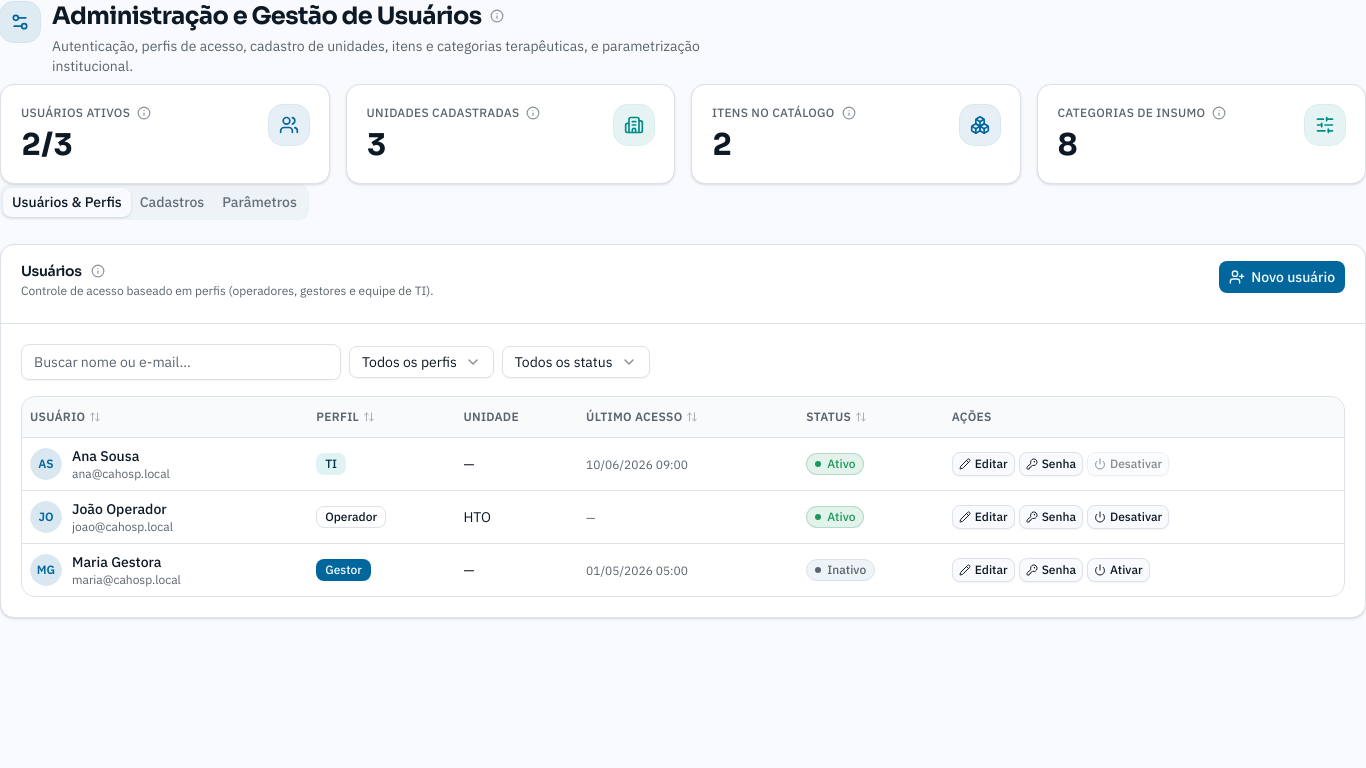
it: AdminPage › abre o modal de novo usuário e cria com sucesso
Click the button "Novo usuário" at point(1282, 277), box x1=1219 y1=261 x2=1345 y2=293
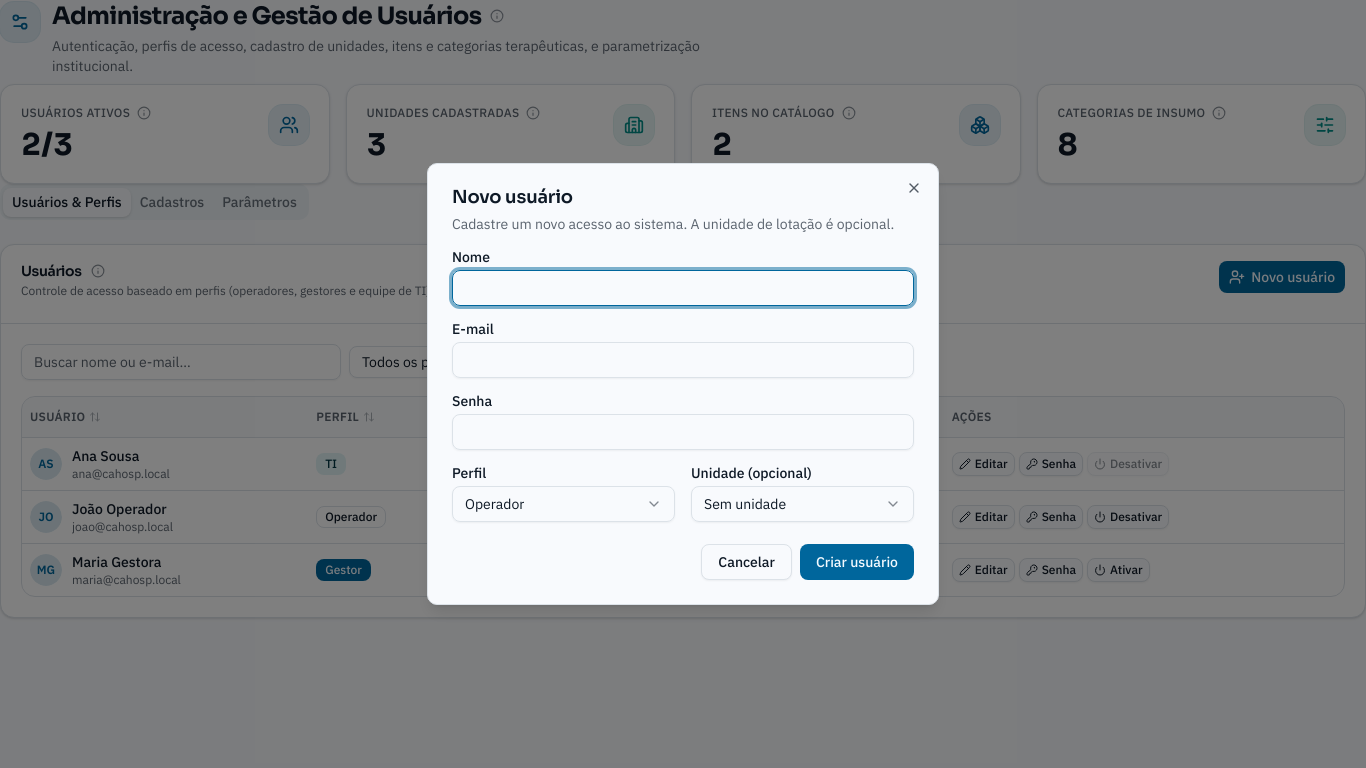
Type "Pedro Novo" into the field labelled "Nome" at point(683, 288), box x1=452 y1=270 x2=914 y2=306
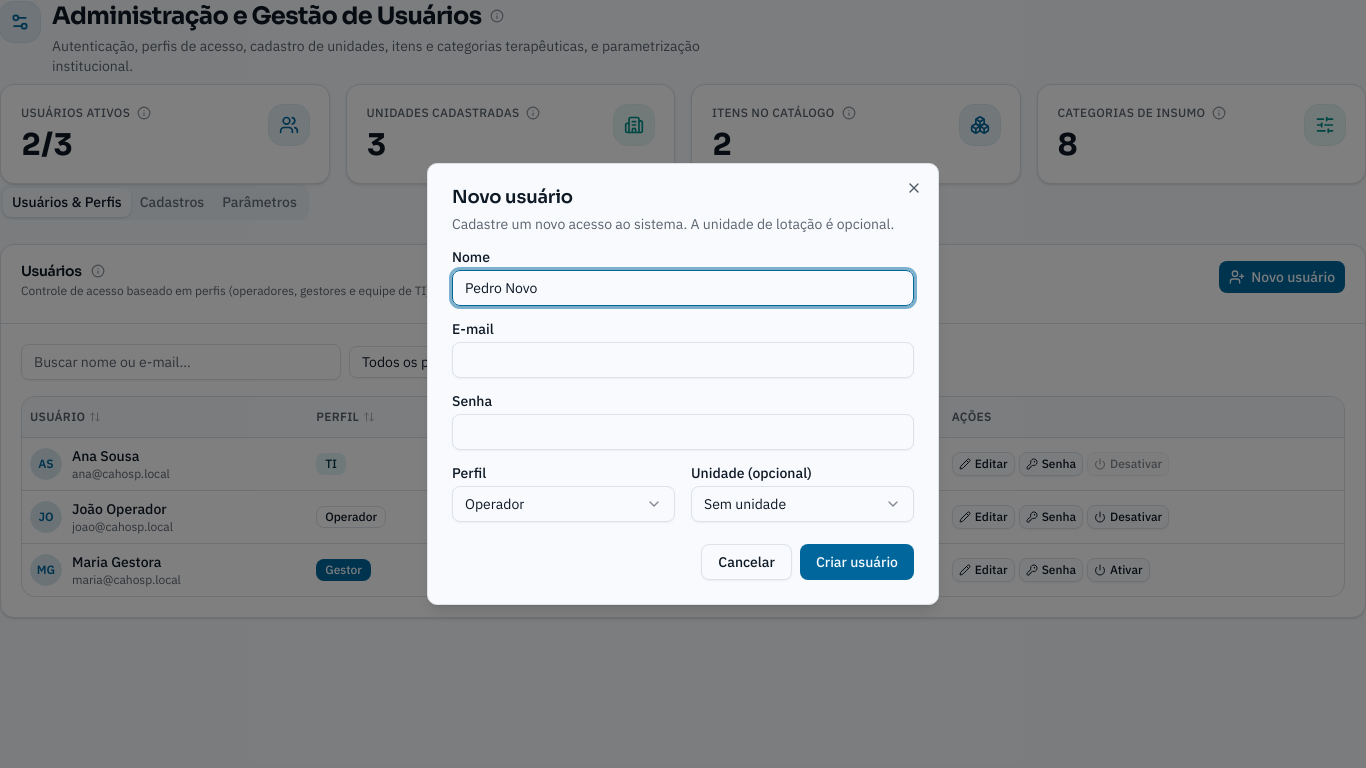
Type "pedro@cahosp.local" into the field labelled "E-mail" at point(683, 360), box x1=452 y1=342 x2=914 y2=378
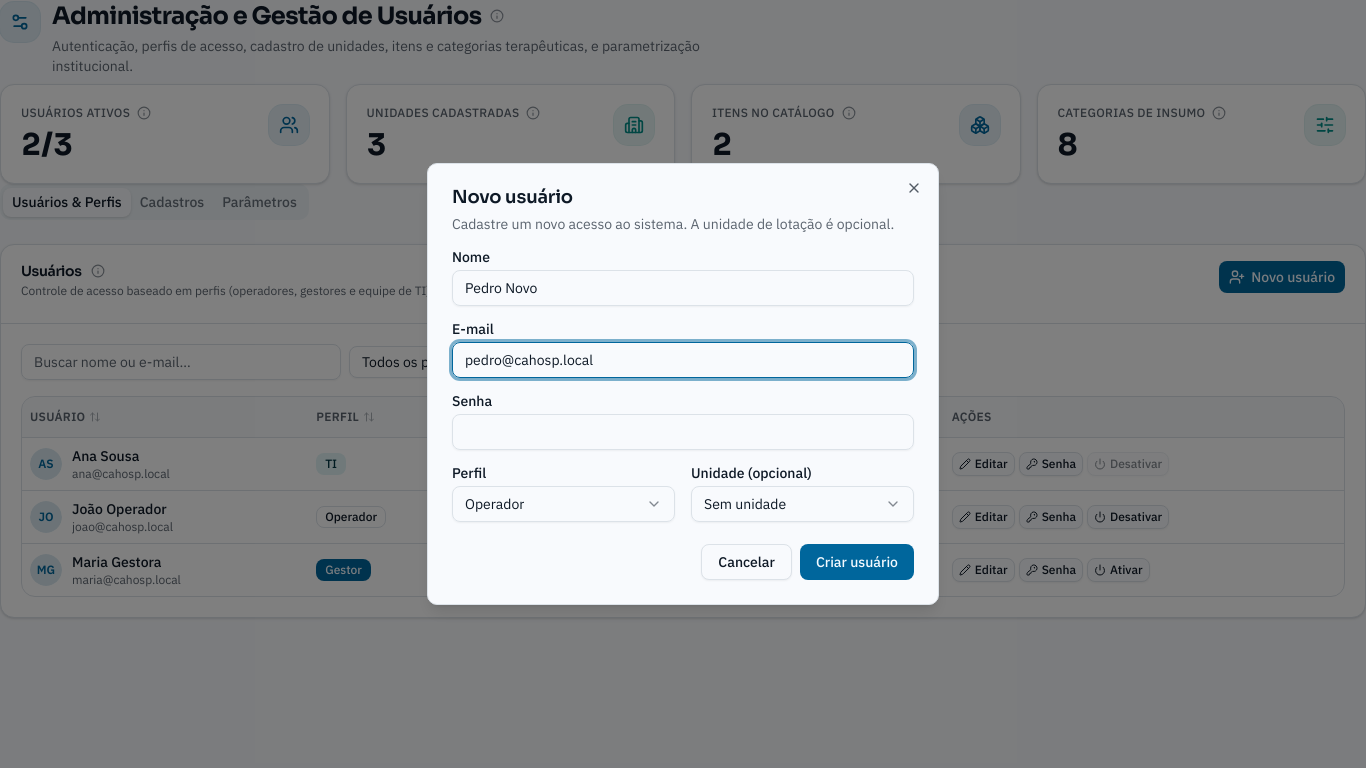
Type "senha1234" into the password field labelled "Senha" at point(683, 432), box x1=452 y1=414 x2=914 y2=450
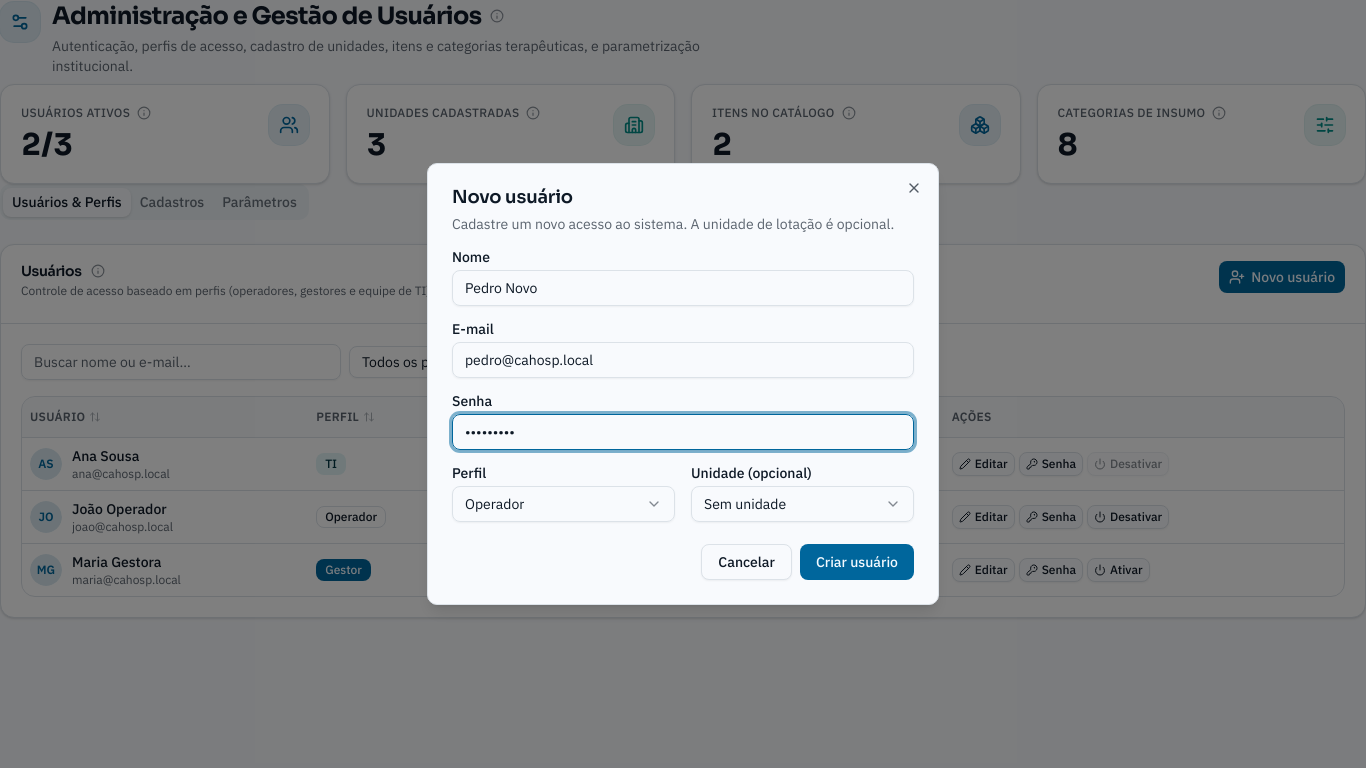
Click the button "Criar usuário" at point(857, 562), box x1=800 y1=544 x2=914 y2=580
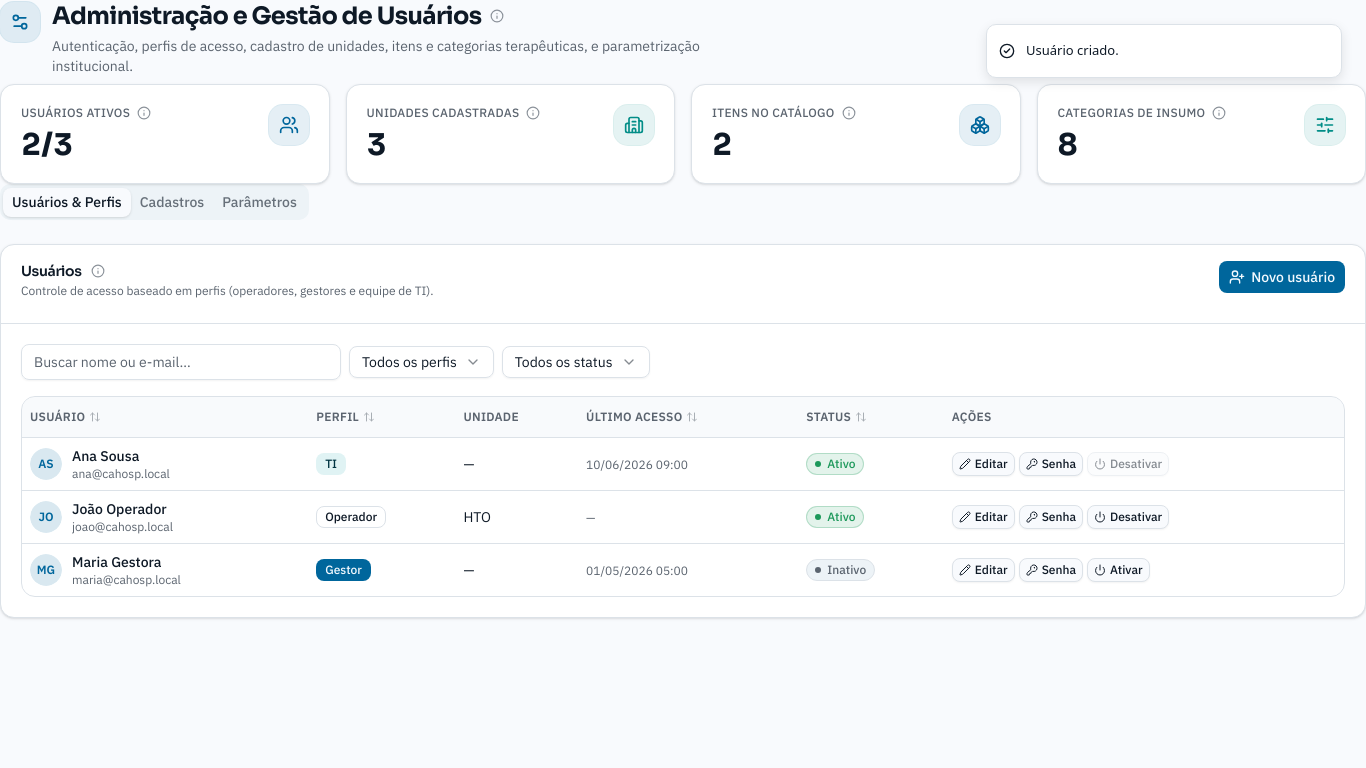
Check: the text "Usuário criado." is shown, box x1=1026 y1=41 x2=1119 y2=60
